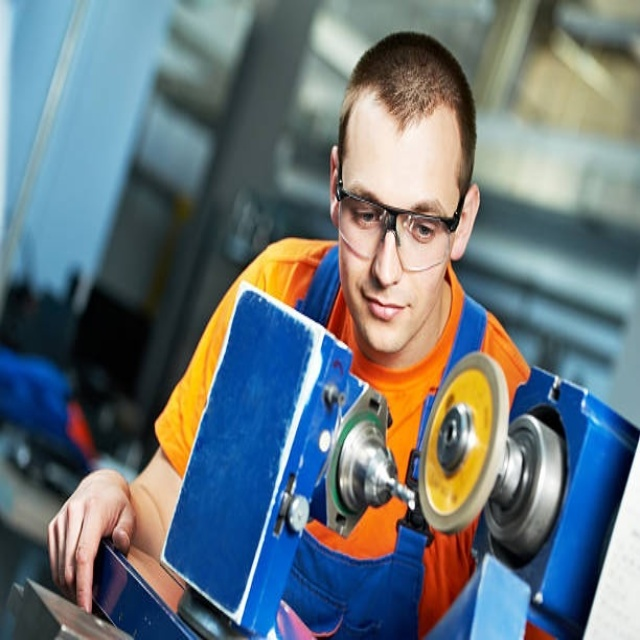Gafas: (334, 155, 466, 274)
Sin_guantes: (47, 469, 136, 613)
Sin_mascara: (356, 283, 413, 349)
